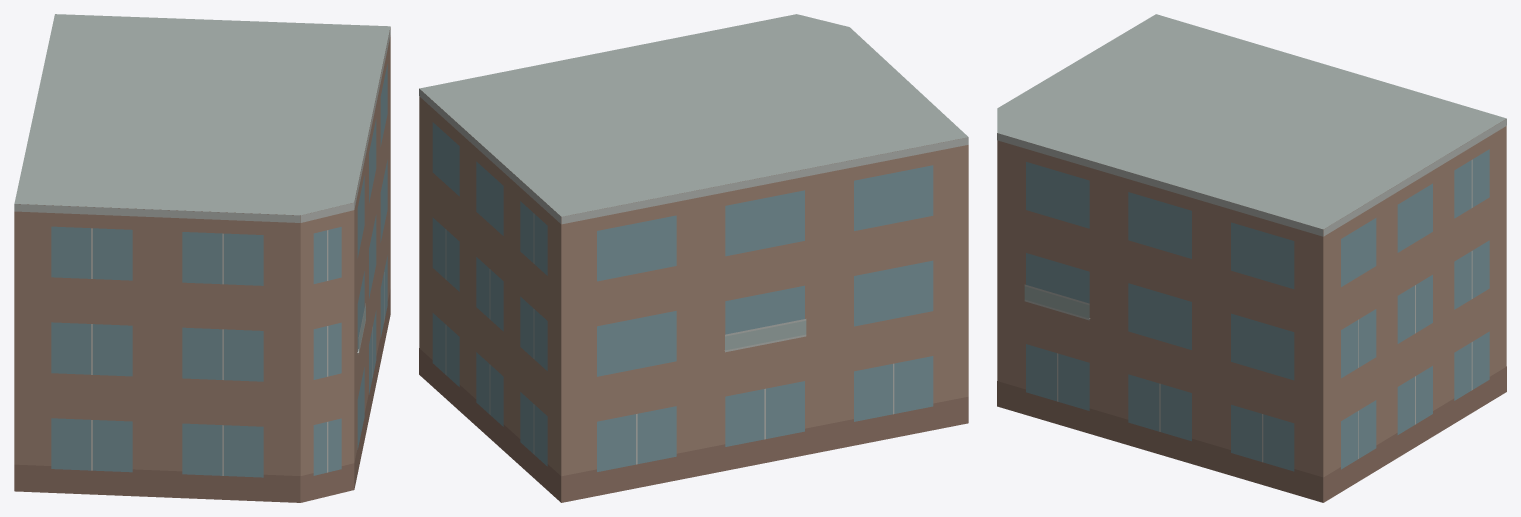
File: survey-upis-32915530.glb
3 renders of one model, left to right at view 1: azimuth 30°, elevation 25°; view 2: azimuth 150°, elevation 25°; view 3: azimuth 270°, elevation 25°, orthographic. The views are drawn at different scales.
Parts seen in each view (by area): view 1: survey-upis-32915530.tmp; view 2: survey-upis-32915530.tmp; view 3: survey-upis-32915530.tmp.
Boxes of the visible parts, box(x1,y1,x2,y2) form: survey-upis-32915530.tmp: box(14, 14, 390, 502); survey-upis-32915530.tmp: box(419, 14, 968, 502); survey-upis-32915530.tmp: box(997, 14, 1506, 502).
Bounding box in the file's own units: 15.47 × 9.15 × 15.47.
